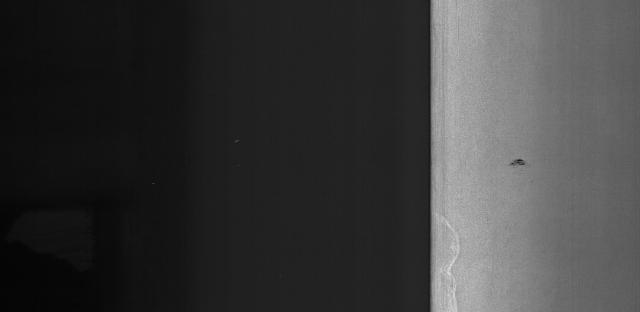inclusion: (505, 156, 534, 173)
water_spot: (432, 200, 468, 312)
